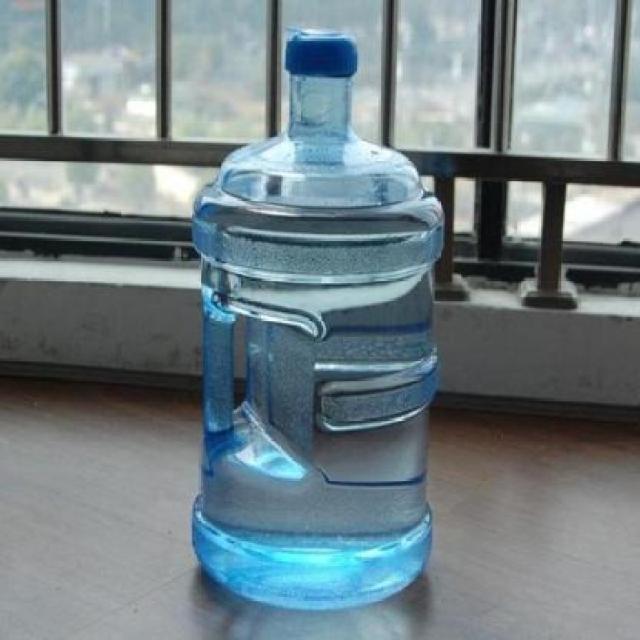coolerbottle: (188, 24, 448, 618)
